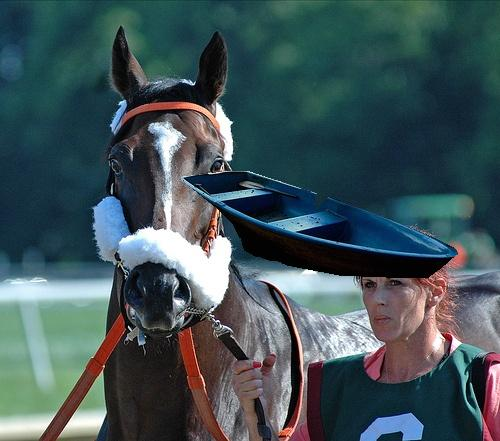tampered: (181, 172, 458, 278)
